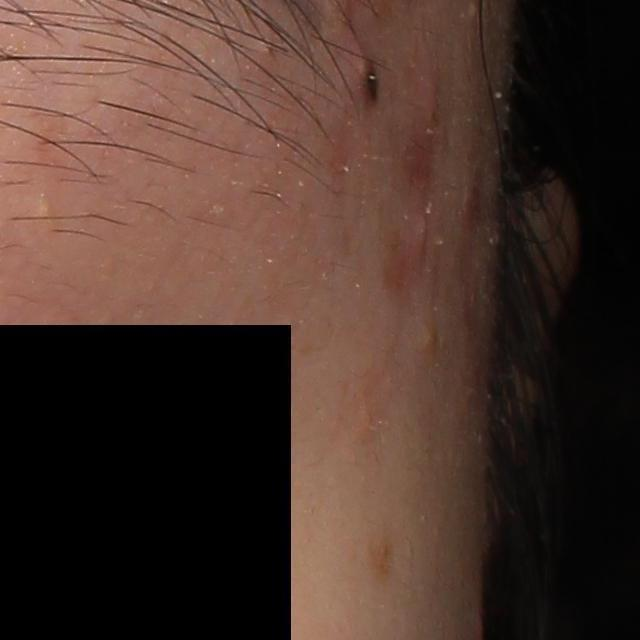comedo: (417, 321, 440, 356), (32, 197, 54, 221)
nevus: (359, 56, 383, 107)
papule: (417, 76, 447, 136)
